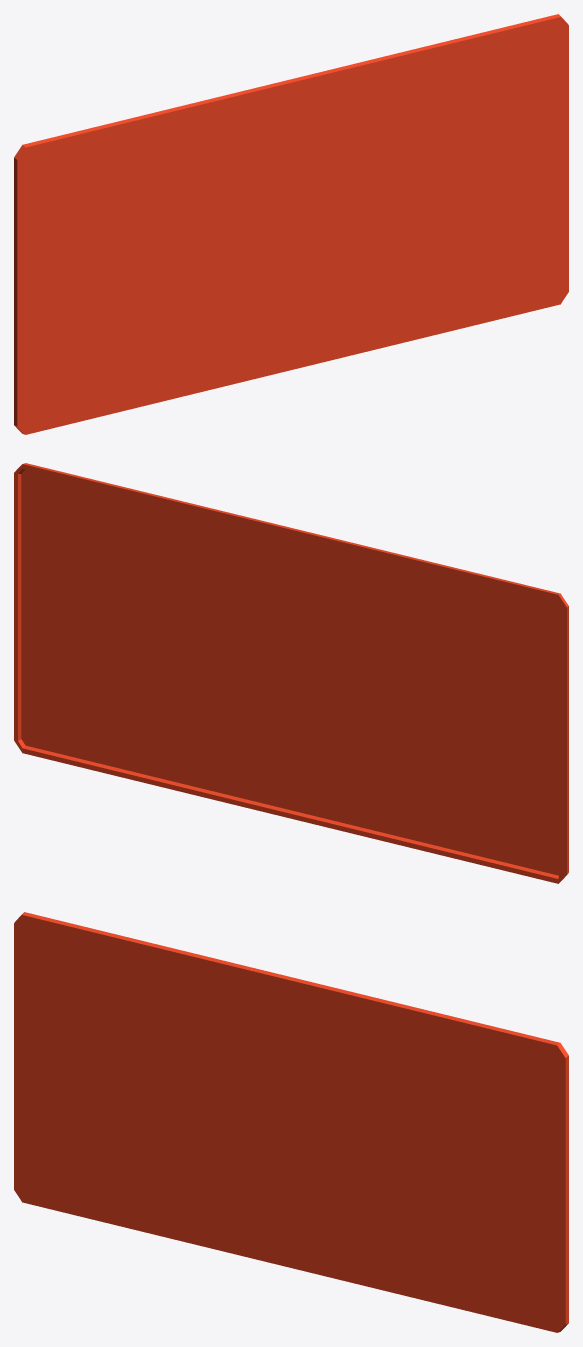
File: SM_Sign_Destination_Big_City.fbx
3 renders of one model, top to bottom at view 1: azimuth 30°, elevation 25°; view 2: azimuth 150°, elevation 25°; view 3: azimuth 330°, elevation 25°, orthographic.
Parts seen in each view (by area): view 1: SM_Sign_Destination_Big_City; view 2: SM_Sign_Destination_Big_City; view 3: SM_Sign_Destination_Big_City.
Boxes of the visible parts, x1=… form: SM_Sign_Destination_Big_City: x1=14, y1=14, x2=568, y2=434; SM_Sign_Destination_Big_City: x1=14, y1=463, x2=568, y2=883; SM_Sign_Destination_Big_City: x1=14, y1=912, x2=568, y2=1332.
Size of the model in its own units: 5 by 2.5 by 0.0434.
